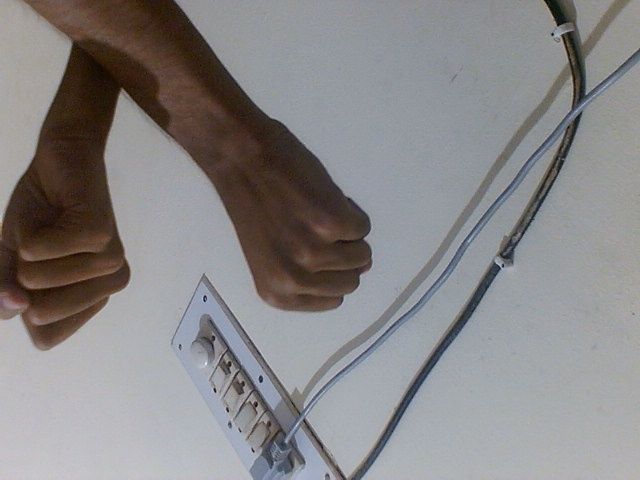hand: (172, 117, 379, 315), (1, 112, 134, 354)
